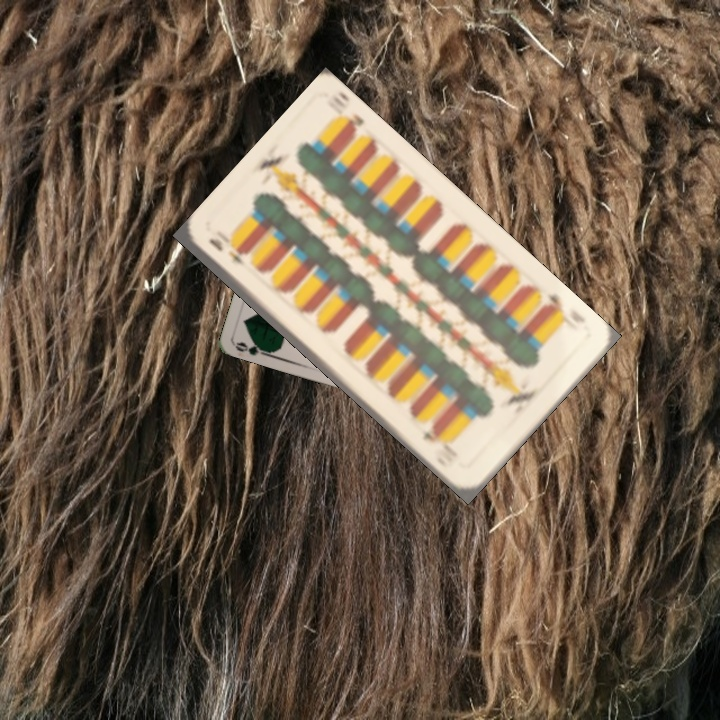E10: (204, 234, 248, 269), (538, 289, 567, 318)
GO: (232, 337, 274, 359)
